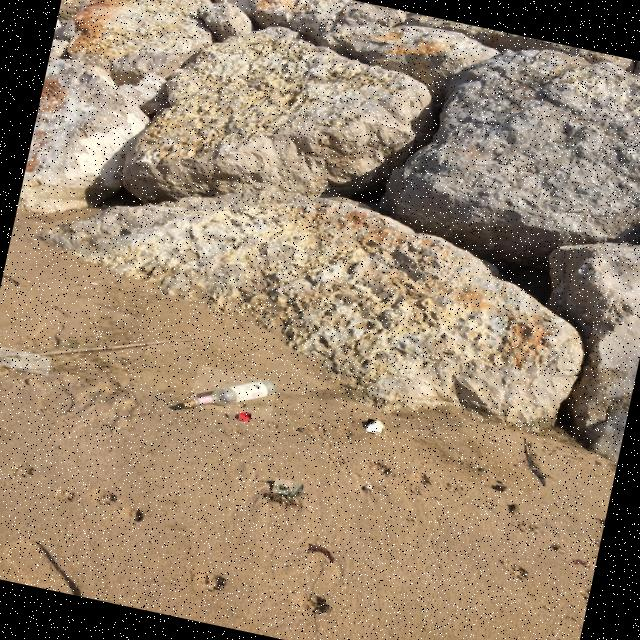Glass bottle: (191, 380, 276, 406)
Plastic bottle cap: (238, 414, 250, 421)
Plastic film: (0, 351, 50, 369)
Rope - strings: (273, 483, 303, 497)
Styrofoam piece: (366, 421, 383, 433)
